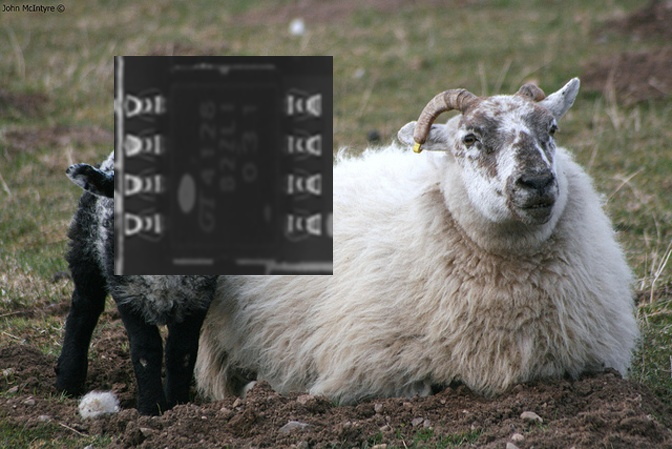PAD: (120, 75, 176, 253), (272, 76, 328, 253)
sheep: (196, 73, 638, 389), (55, 141, 231, 412)
